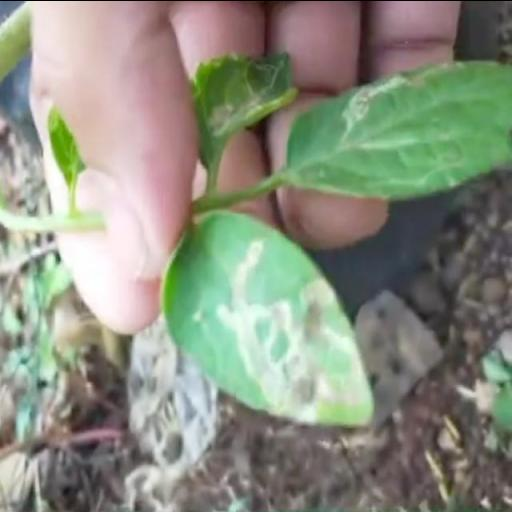Leaf Miner: (160, 203, 377, 428), (284, 54, 512, 206)
